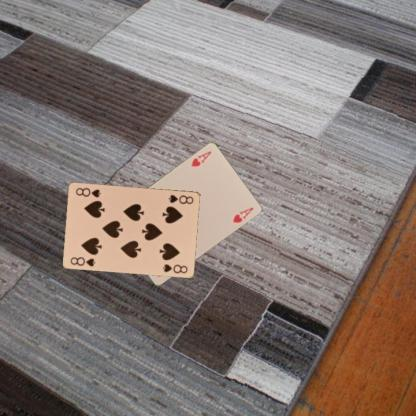8s: (67, 254, 96, 268), (166, 192, 195, 205)
Ah: (188, 149, 213, 168)
